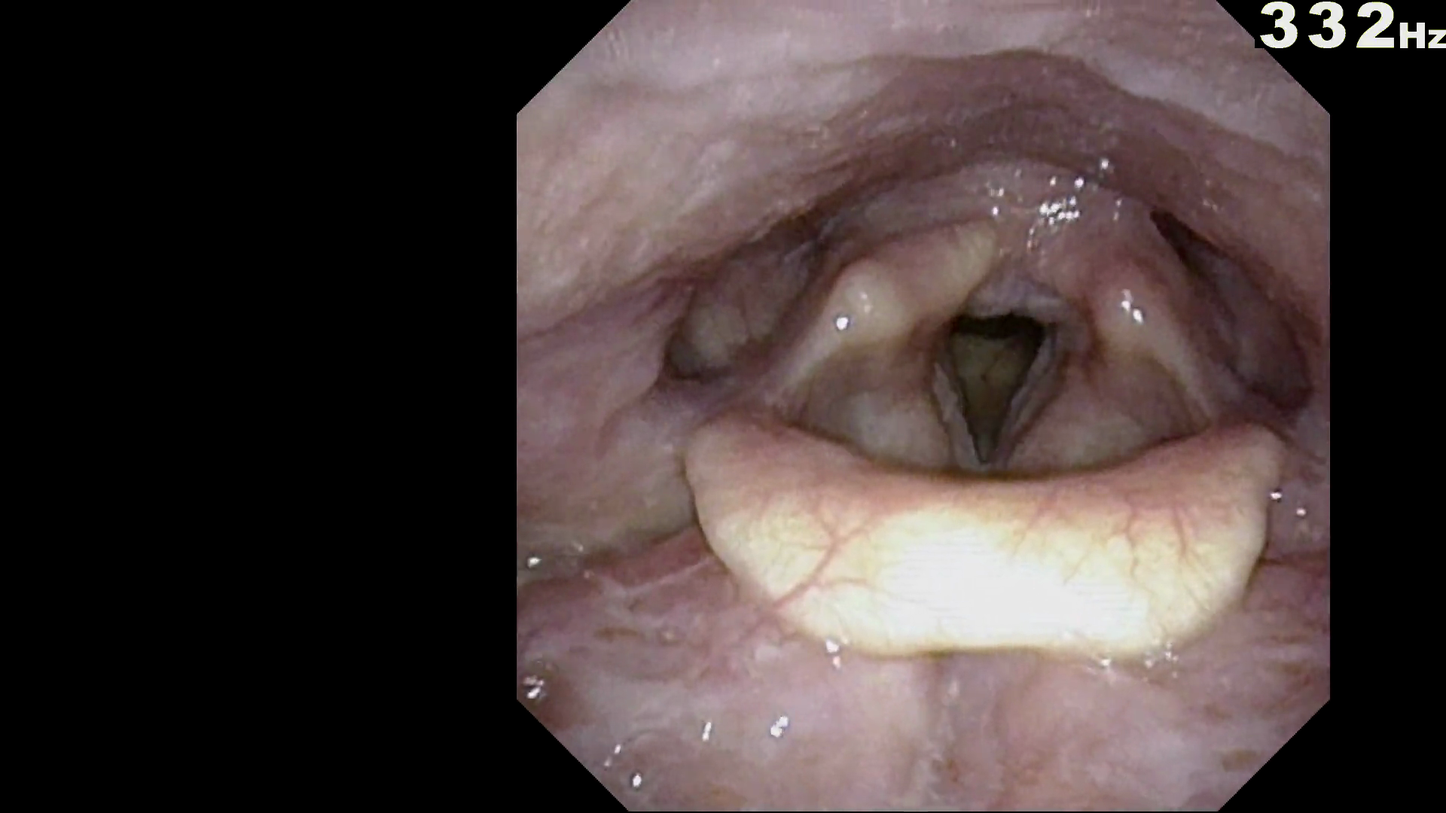epiglottis: (672, 398, 1296, 658)
trachea: (912, 286, 1092, 497)
